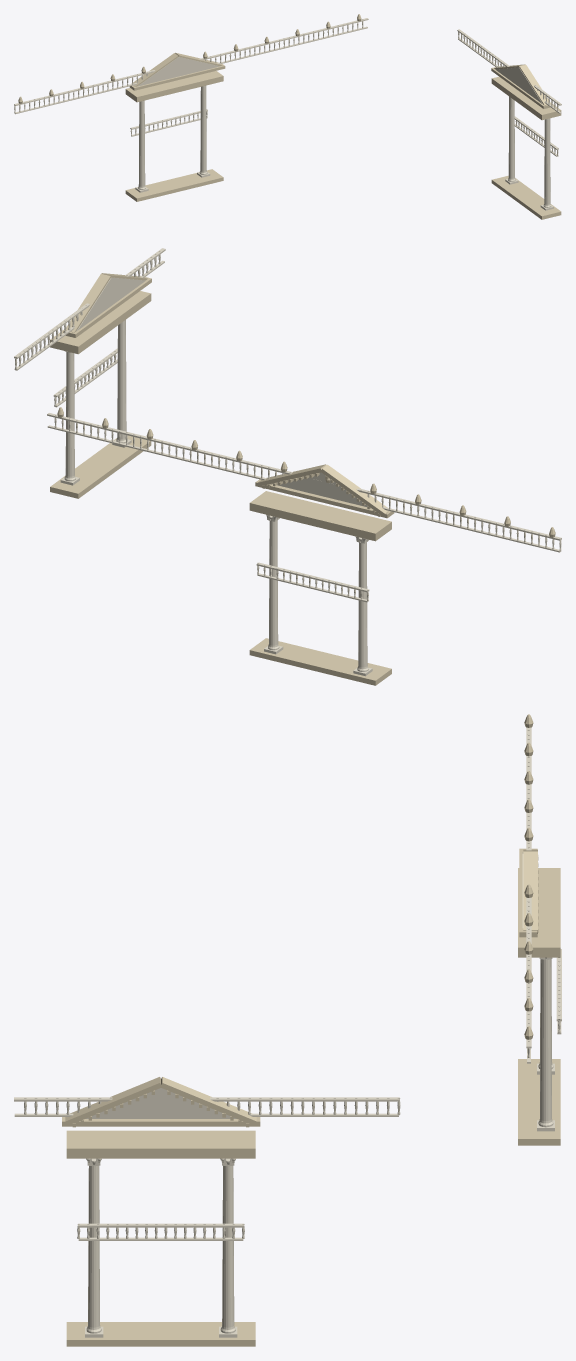
Rendered from KOL_T1_METROPOLITAN__07_Street_Crowns.fbx.
The picture shows the model from 3 angles, top to bottom: view 1: azimuth 30°, elevation 25°; view 2: azimuth 150°, elevation 25°; view 3: azimuth 270°, elevation 25°; orthographic projection. The views are drawn at different scales.
Parts seen in each view (by area): view 1: KOL_T1_METROPOLITAN__07_Street_Crowns__KOL_T1_HeritageCream, KOL_T1_METROPOLITAN__07_Street_Crowns__KOL_T1_HeritageWhite, KOL_T1_METROPOLITAN__07_Street_Crowns__KOL_T1_HeritageWhite. (×2); view 2: KOL_T1_METROPOLITAN__07_Street_Crowns__KOL_T1_HeritageCream, KOL_T1_METROPOLITAN__07_Street_Crowns__KOL_T1_HeritageWhite, KOL_T1_METROPOLITAN__07_Street_Crowns__KOL_T1_HeritageWhite. (×2); view 3: KOL_T1_METROPOLITAN__07_Street_Crowns__KOL_T1_HeritageCream, KOL_T1_METROPOLITAN__07_Street_Crowns__KOL_T1_HeritageWhite, KOL_T1_METROPOLITAN__07_Street_Crowns__KOL_T1_HeritageWhite. (×2).
Part boxes in pixels (x1,y1,x2,y2): KOL_T1_METROPOLITAN__07_Street_Crowns__KOL_T1_HeritageCream: (18, 14, 561, 219); KOL_T1_METROPOLITAN__07_Street_Crowns__KOL_T1_HeritageWhite: (14, 57, 558, 210); KOL_T1_METROPOLITAN__07_Street_Crowns__KOL_T1_HeritageWhite. (×2): (19, 18, 561, 113); KOL_T1_METROPOLITAN__07_Street_Crowns__KOL_T1_HeritageCream: (50, 273, 555, 685); KOL_T1_METROPOLITAN__07_Street_Crowns__KOL_T1_HeritageWhite: (53, 277, 561, 676); KOL_T1_METROPOLITAN__07_Street_Crowns__KOL_T1_HeritageWhite. (×2): (14, 248, 554, 549); KOL_T1_METROPOLITAN__07_Street_Crowns__KOL_T1_HeritageCream: (62, 714, 560, 1346); KOL_T1_METROPOLITAN__07_Street_Crowns__KOL_T1_HeritageWhite: (77, 727, 561, 1337); KOL_T1_METROPOLITAN__07_Street_Crowns__KOL_T1_HeritageWhite. (×2): (14, 729, 531, 1116).
Bounding box in the file's own units: 152 × 46.01 × 89.85.
